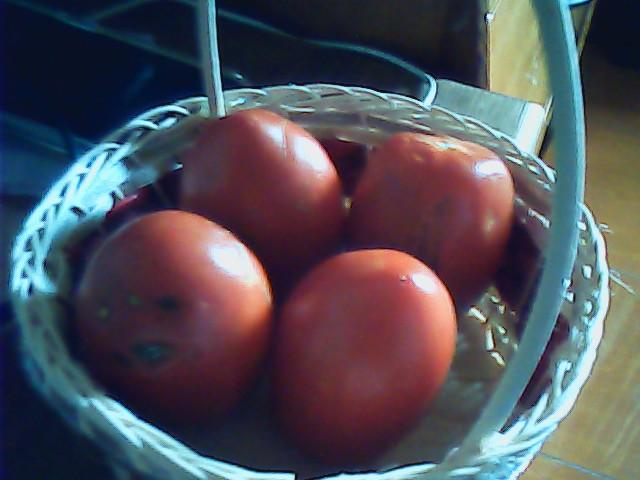defectuoso: (73, 208, 272, 418), (358, 133, 512, 312)
maduro: (269, 248, 460, 451), (188, 104, 344, 287)
